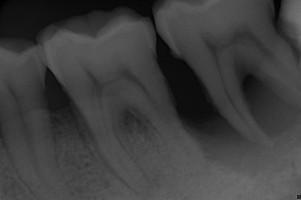Dental Caries: (186, 74, 301, 175)
Endo-Periodontal Lesion: (119, 107, 156, 139)
